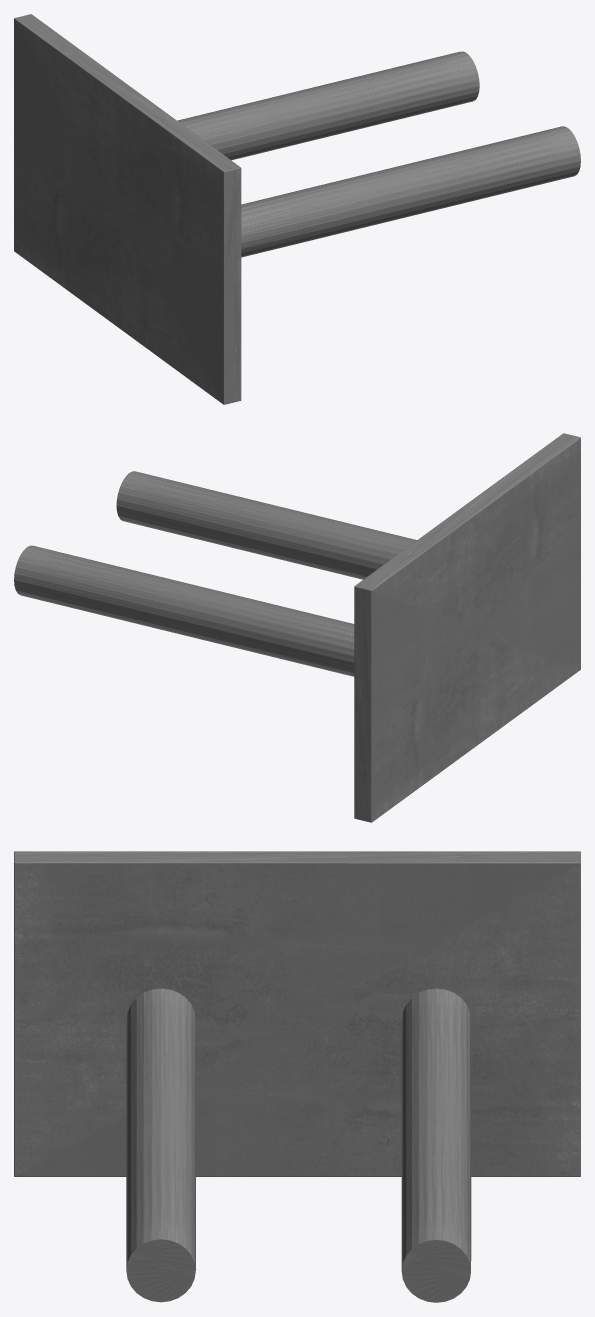
File: pusher_arm.dae
The picture shows the model from 3 angles, top to bottom: view 1: azimuth 30°, elevation 25°; view 2: azimuth 150°, elevation 25°; view 3: azimuth 270°, elevation 25°; orthographic projection. The views are drawn at different scales.
Parts seen in each view (by area): view 1: pusher_arm-Node; view 2: pusher_arm-Node; view 3: pusher_arm-Node.
Part boxes in pixels (x1,y1,x2,y2): pusher_arm-Node: (14,14,580,404); pusher_arm-Node: (14,433,580,822); pusher_arm-Node: (14,851,580,1302).
Size of the model in its own units: 4.48 by 4.08 by 2.5.
Materials: 1 (1 with a texture image).
